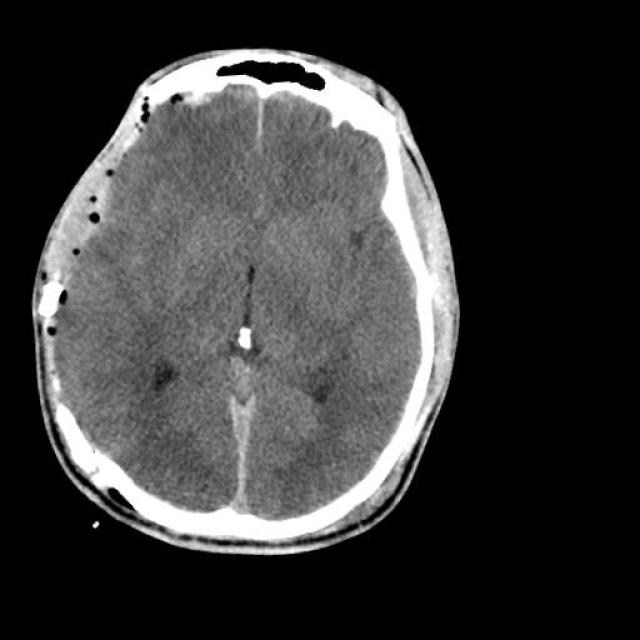Subdural: (192, 386, 302, 530)
